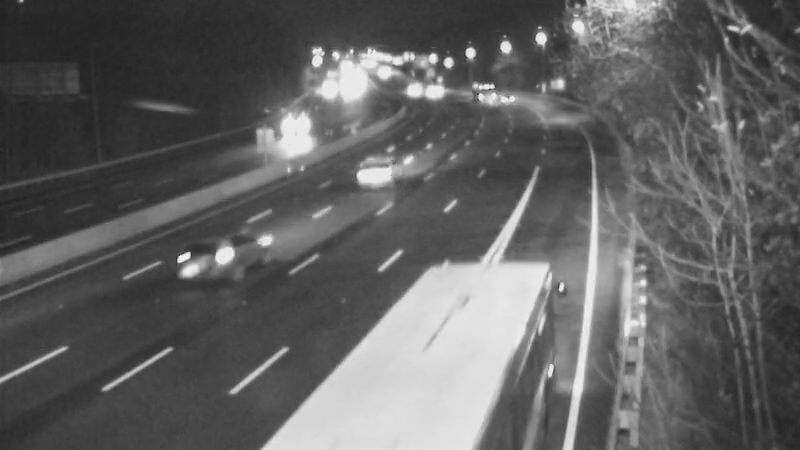vehicle: (346, 320, 456, 430), (342, 131, 422, 211), (166, 219, 246, 299), (449, 59, 499, 109), (384, 59, 434, 109), (409, 66, 459, 116), (478, 71, 528, 121), (266, 97, 316, 147)
